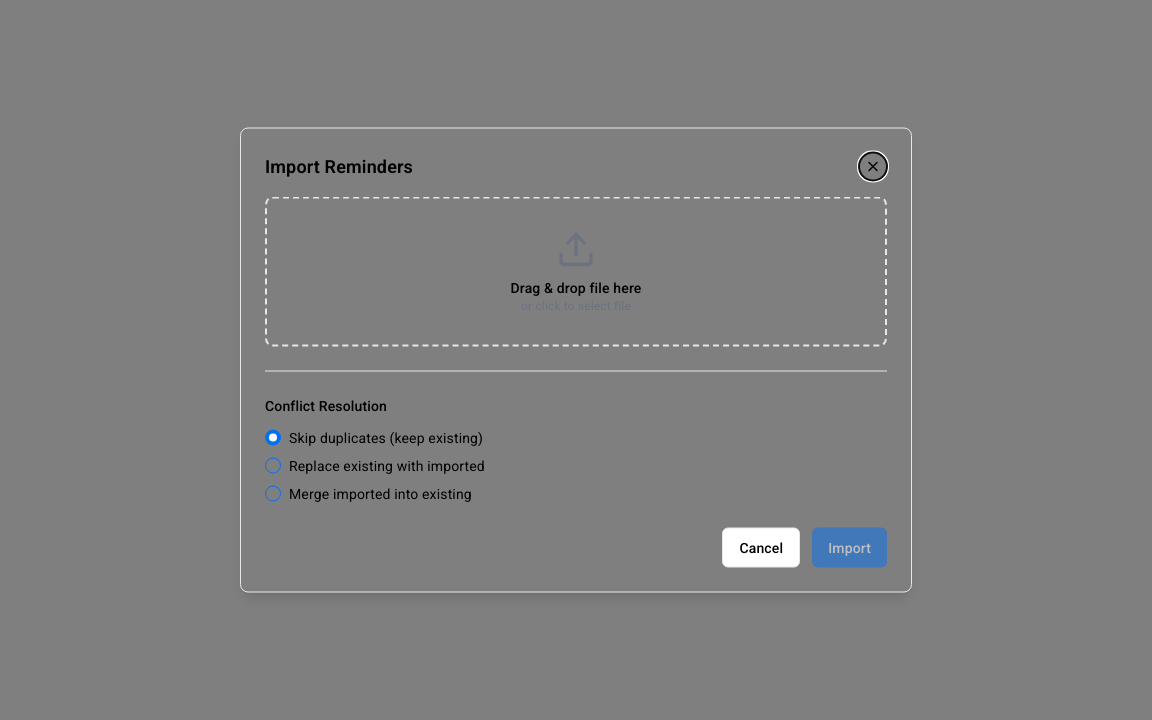
Test: ImportDialog › clears field selection when switching away from merge strategy
Note: Switch to merge
Click the radio button named "Merge imported into existing" next to "Merge imported into existing" at (273, 494), box [265,486,281,502]
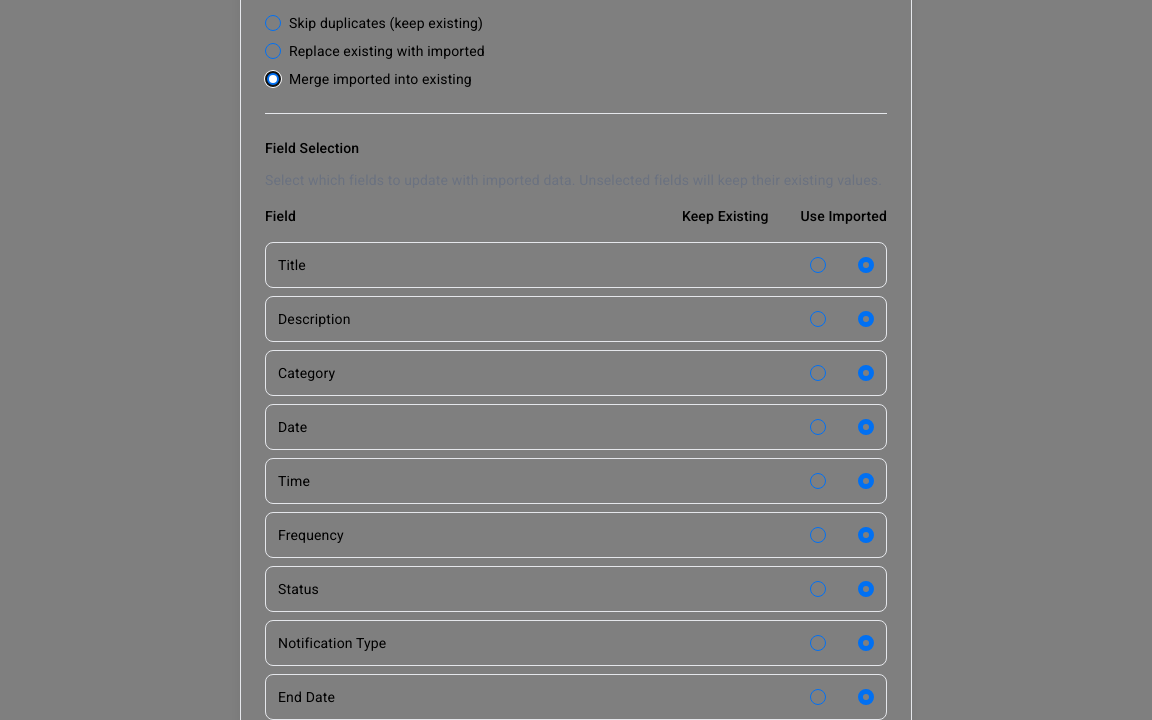
Check: the heading "Field Selection" is shown, box [265,140,359,156]
Note: Switch to skip
Click the radio button named "Skip duplicates (keep existing)" next to "Skip duplicates (keep existing)" at (273, 23), box [265,15,281,31]
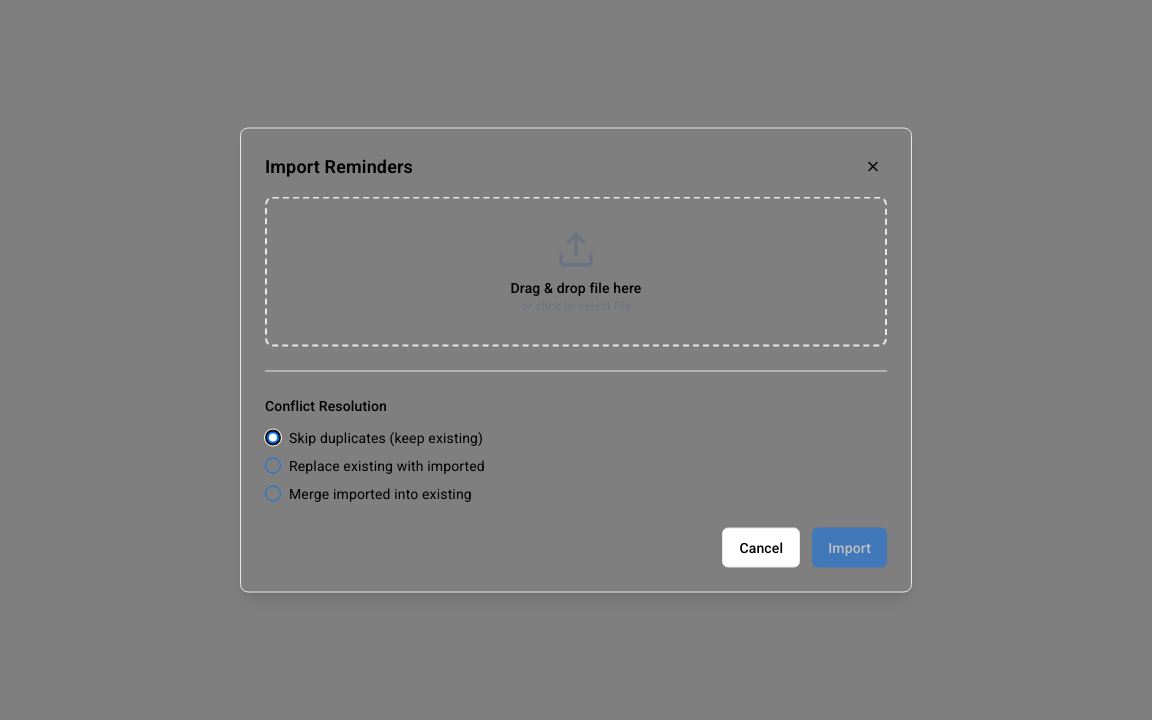
Check: the heading "Field Selection" is gone
Note: Switch back to merge
Click the radio button named "Merge imported into existing" next to "Merge imported into existing" at (273, 494), box [265,486,281,502]
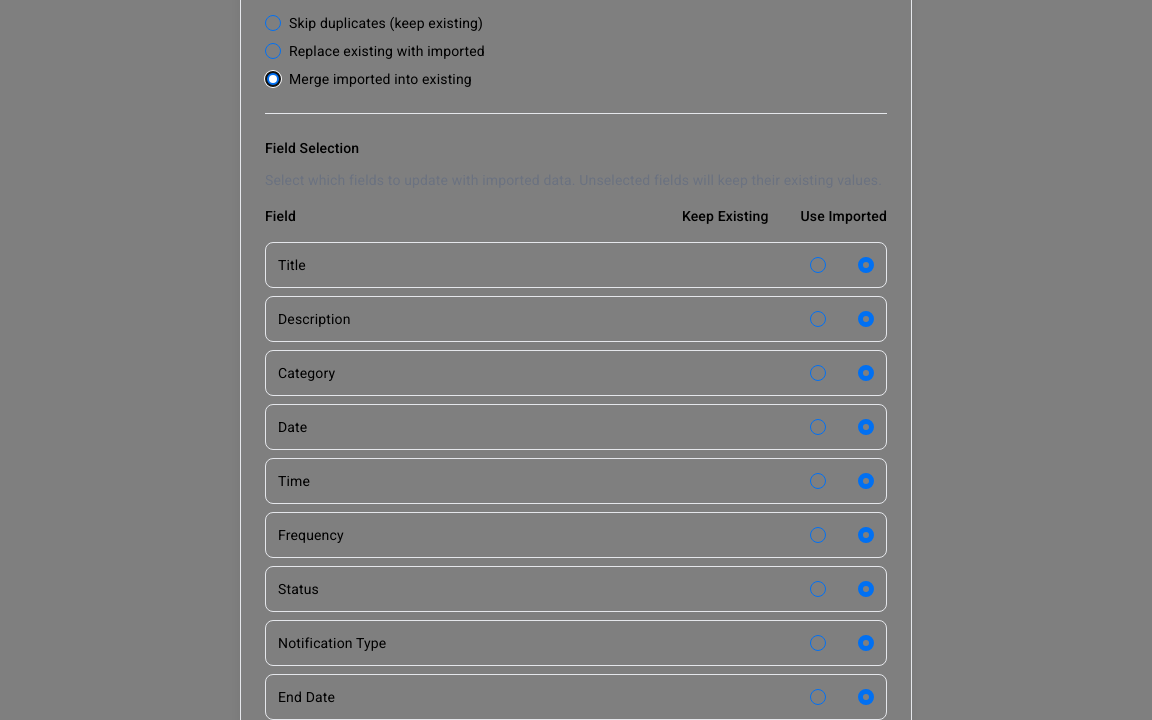
Check: the heading "Field Selection" is shown, box [265,140,359,156]
